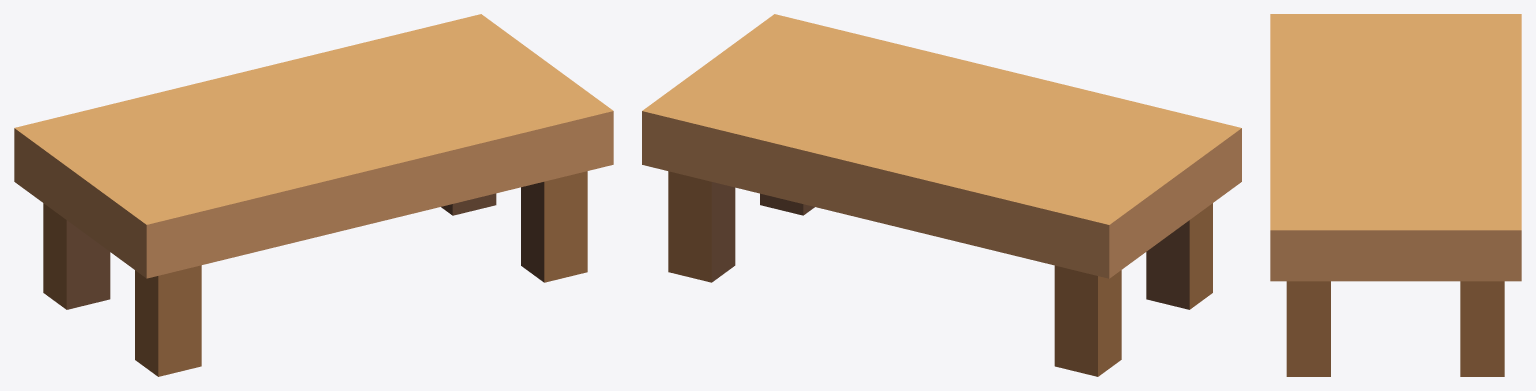
The model's file is Mesinha Aidan.fbx.
3 views of the same model, side by side, from view 1: azimuth 30°, elevation 25°; view 2: azimuth 150°, elevation 25°; view 3: azimuth 270°, elevation 25° (orthographic). The views are drawn at different scales.
Parts seen in each view (by area): view 1: Mesa Aidan; view 2: Mesa Aidan; view 3: Mesa Aidan.
Part boxes in pixels (<box>): Mesa Aidan: <box>14,14,613,376</box>; Mesa Aidan: <box>642,14,1241,376</box>; Mesa Aidan: <box>1270,14,1521,376</box>.
Bounding box in the file's own units: 169 × 56.31 × 82.82.
Materials: 1 (1 with a texture image).
